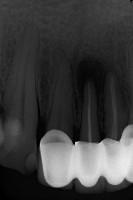Furcation Involvement: (76, 56, 108, 105)
